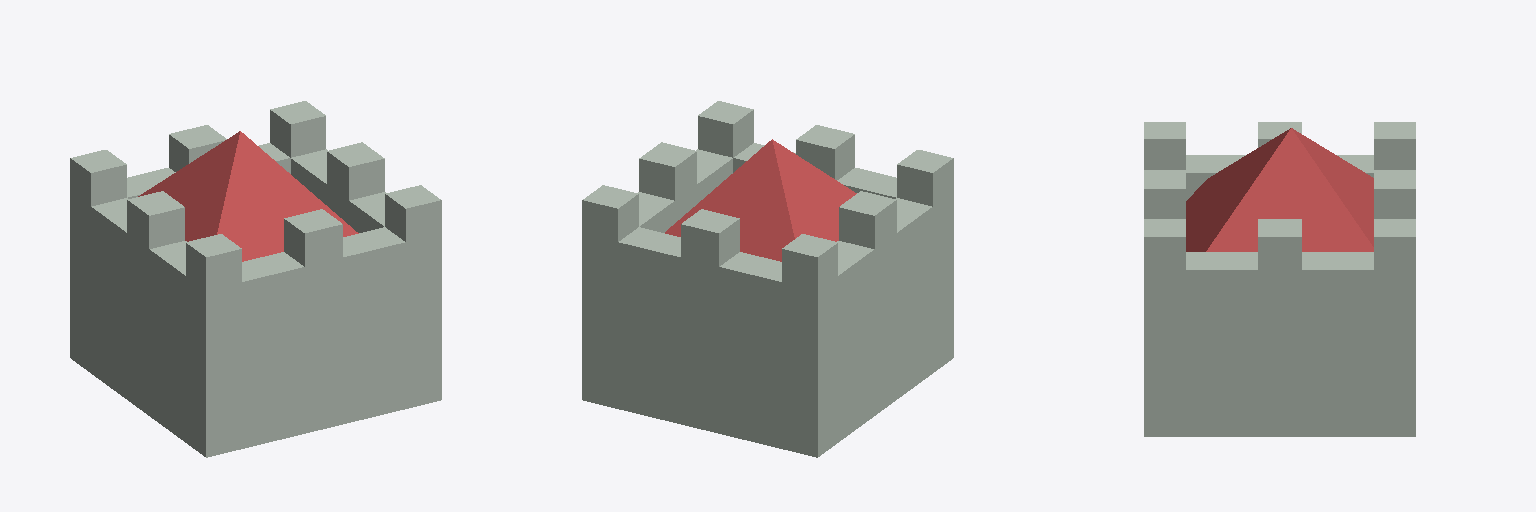
Rendered from towerDefense_056.obj.
3 renders of one model, left to right at view 1: azimuth 30°, elevation 25°; view 2: azimuth 150°, elevation 25°; view 3: azimuth 270°, elevation 25°, orthographic.
Parts seen in each view (by area): view 1: Mesh2 Group1 Model, Mesh1 Group2 Group1 Model; view 2: Mesh2 Group1 Model, Mesh1 Group2 Group1 Model; view 3: Mesh2 Group1 Model, Mesh1 Group2 Group1 Model.
Boxes of the visible parts, box(x1,y1,x2,y2) form: Mesh2 Group1 Model: box(70, 101, 441, 457); Mesh1 Group2 Group1 Model: box(138, 131, 358, 261); Mesh2 Group1 Model: box(582, 101, 953, 457); Mesh1 Group2 Group1 Model: box(665, 139, 856, 261); Mesh2 Group1 Model: box(1144, 122, 1415, 436); Mesh1 Group2 Group1 Model: box(1186, 128, 1373, 251).
Bounding box in the file's own units: 0.5901 × 0.5914 × 0.5901.